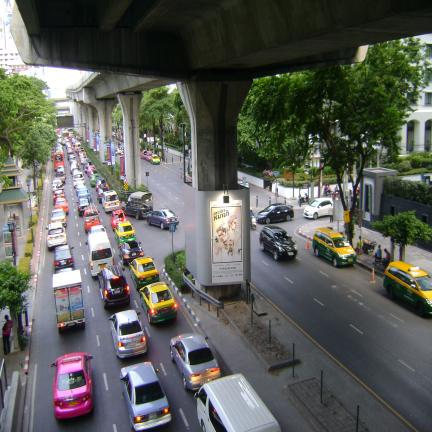car: (120, 362, 171, 431), (170, 333, 221, 389), (109, 310, 147, 358), (98, 265, 130, 308), (260, 225, 298, 260), (256, 204, 294, 224), (147, 209, 179, 229), (304, 197, 332, 219), (119, 240, 144, 264), (54, 244, 74, 270), (110, 210, 127, 231), (88, 224, 106, 234), (157, 369, 159, 371)
human: (214, 225, 227, 257), (2, 314, 12, 355), (227, 215, 241, 242), (372, 245, 382, 265), (382, 248, 390, 268), (355, 236, 362, 254), (329, 206, 333, 222)
motorbike: (362, 238, 377, 253), (298, 193, 310, 207), (324, 186, 332, 196), (332, 191, 340, 200)
taxi: (51, 353, 93, 419), (383, 261, 432, 316), (312, 228, 356, 267), (140, 282, 177, 324), (130, 257, 159, 290), (114, 222, 136, 244)
truck: (52, 270, 85, 332), (122, 191, 154, 220)
van: (195, 374, 281, 432), (86, 232, 113, 276), (101, 190, 120, 213)
